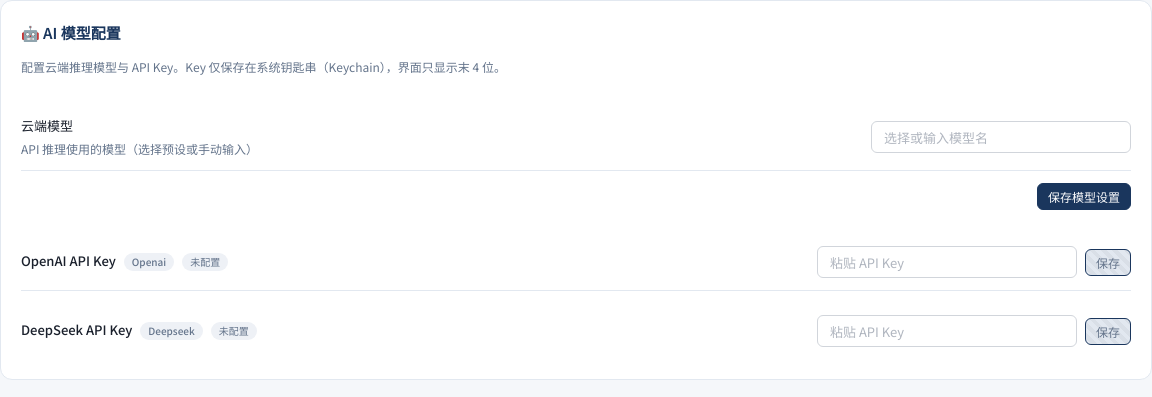
CloudApiKeySection › saves a new key, clears the input and shows masked status
expect the text "未配置" is shown 2 times: met, box [182,253,228,271]; [211,322,257,340]
Step 1. Type "sk-proj-abcdefghijklmnop" into the password field named "OpenAI API Key 输入框" → (947,262), box [817,246,1077,278]
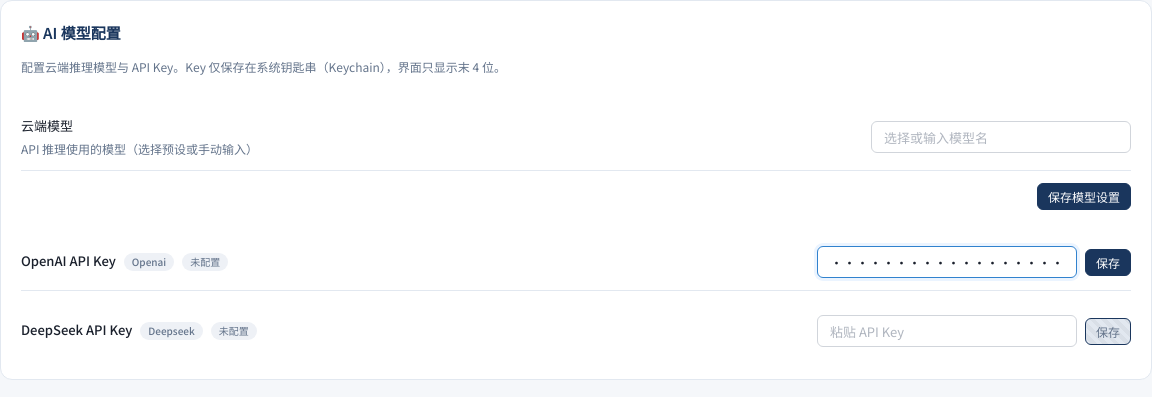
Step 2. Click the 1st button "保存" → (1108,262), box [1085,249,1131,276]
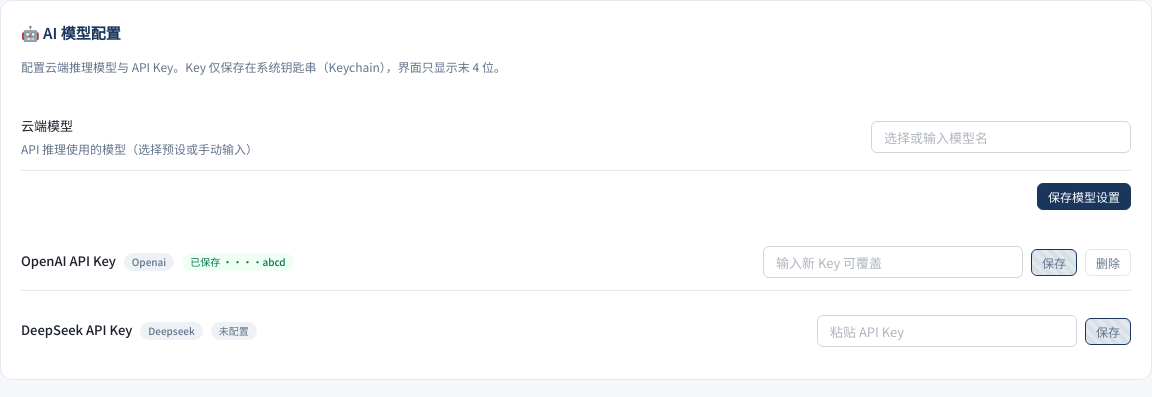
expect the text "已保存 ····abcd" is shown: met, box [182,253,294,271]
expect the password field named "OpenAI API Key 输入框" is empty: met, box [763,246,1023,278]
